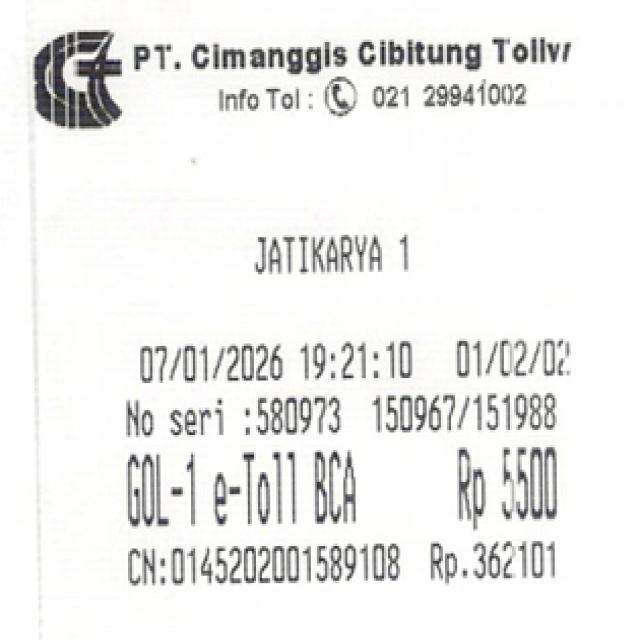date: (133, 346, 418, 389)
store: (103, 32, 579, 78)
total: (436, 438, 564, 532)
